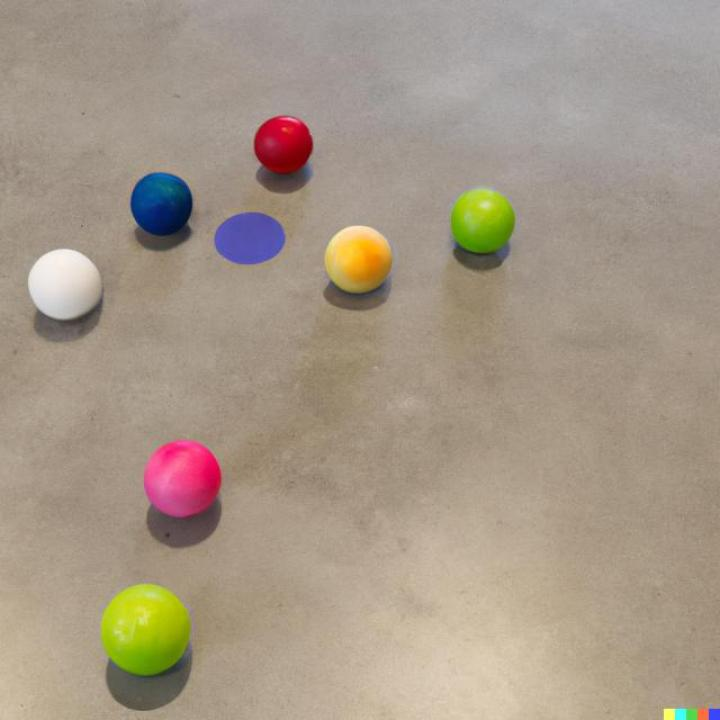white: (30, 246, 104, 320)
